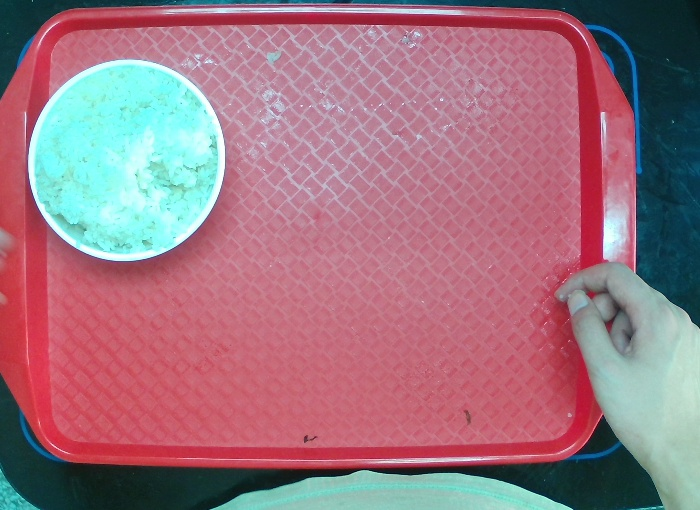YKMZ-Fan_Wan: (23, 57, 225, 265)
